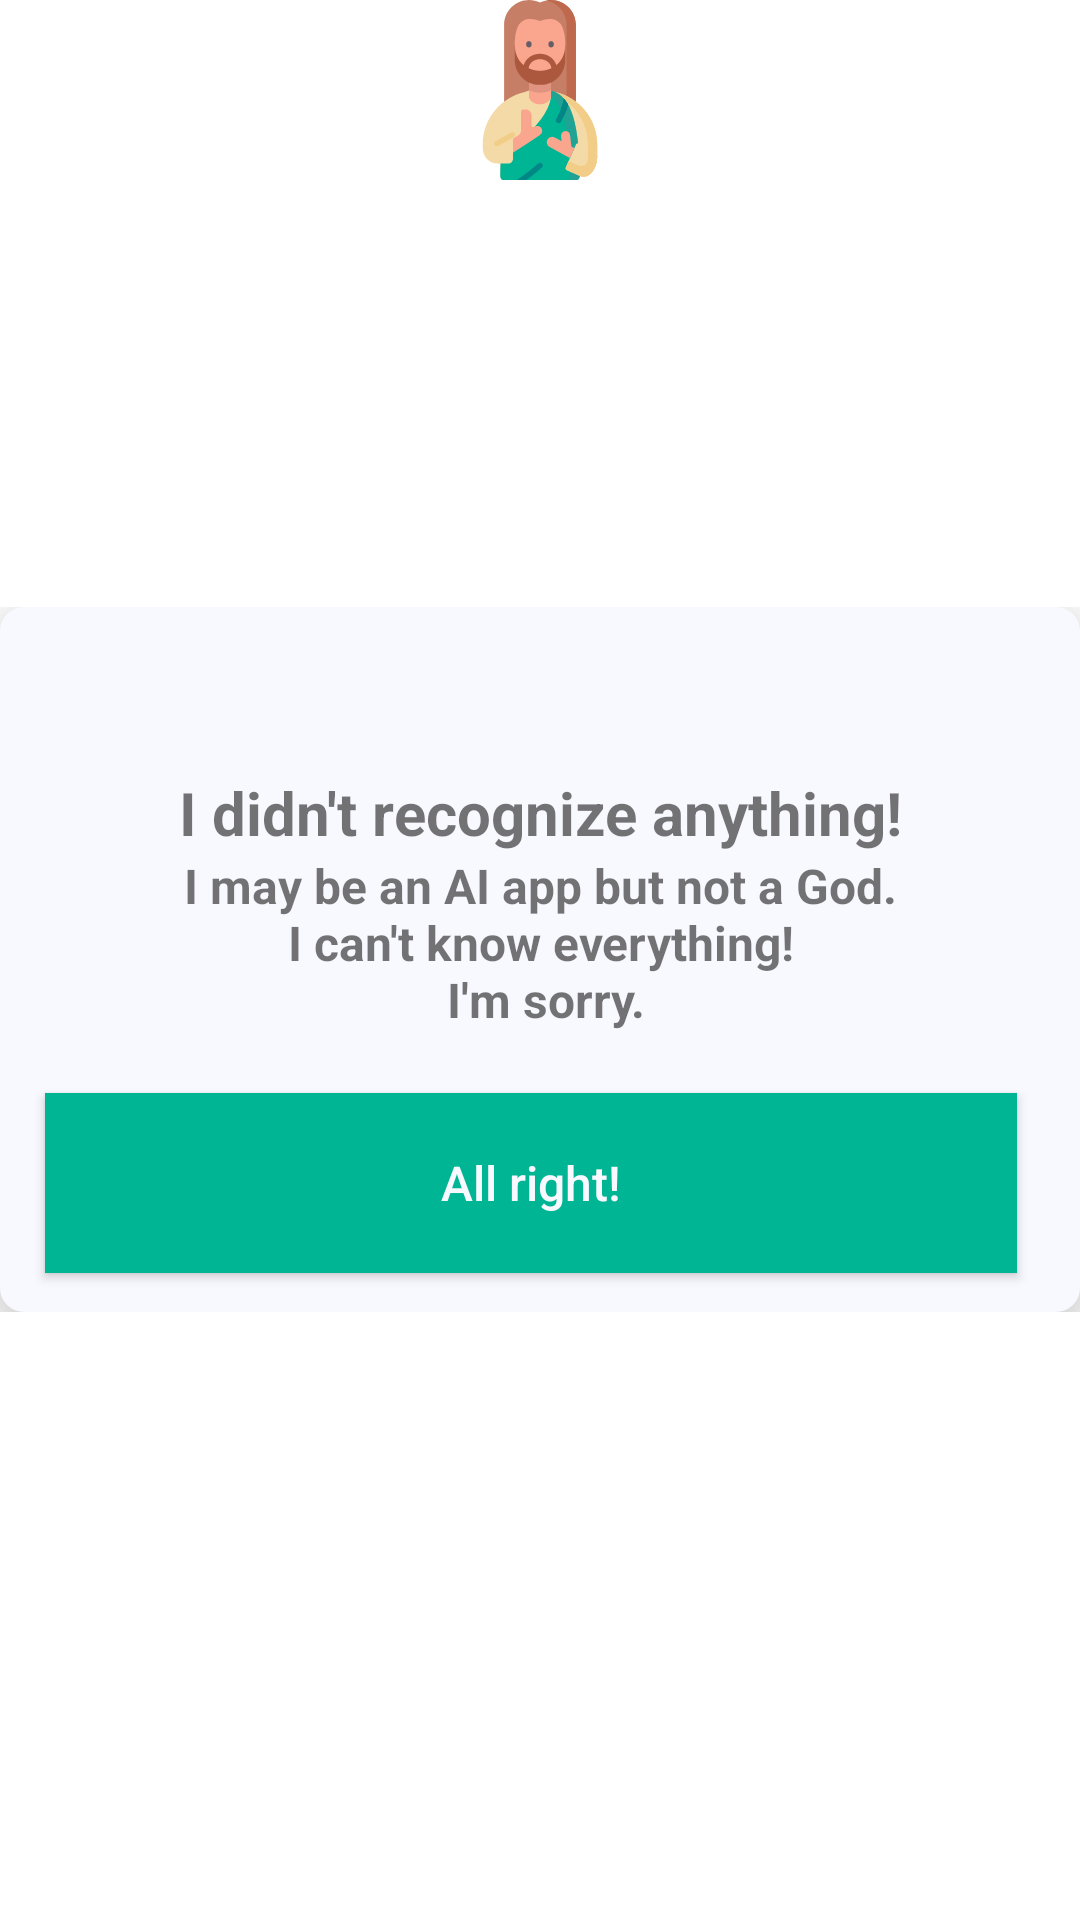

Screen size 1080x1920. Icon name, then its center in pixels as point (x, y):
jesus error message: point (540, 90)
